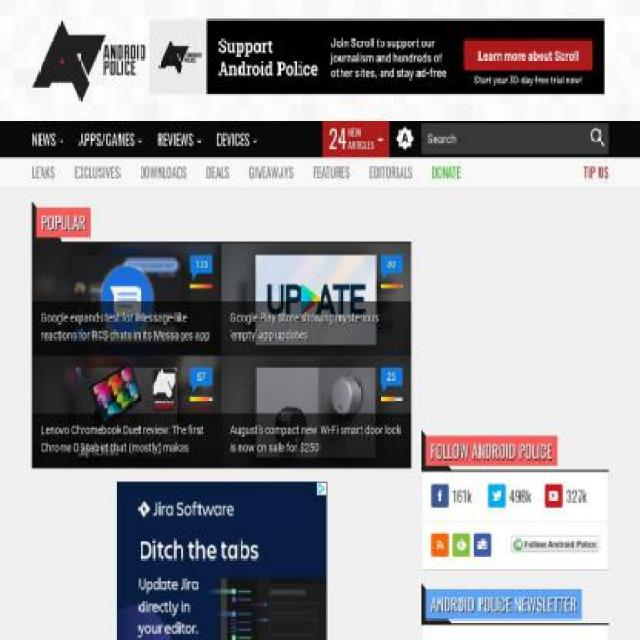button: (30, 356, 222, 469), (220, 356, 412, 469), (30, 243, 222, 355), (220, 243, 412, 355), (31, 10, 146, 110), (70, 119, 150, 158), (322, 119, 389, 158), (149, 119, 209, 158), (208, 119, 266, 158), (134, 157, 192, 188), (510, 533, 599, 553), (68, 157, 125, 188), (243, 157, 299, 188), (364, 157, 418, 188), (32, 119, 72, 158), (308, 157, 355, 188), (430, 485, 485, 509), (487, 485, 542, 509), (544, 485, 599, 509), (426, 157, 466, 188), (200, 157, 234, 188), (577, 157, 609, 188), (31, 157, 60, 188), (190, 255, 213, 273), (190, 368, 213, 386), (380, 255, 402, 273), (380, 368, 402, 386)
field: (420, 123, 609, 154)
